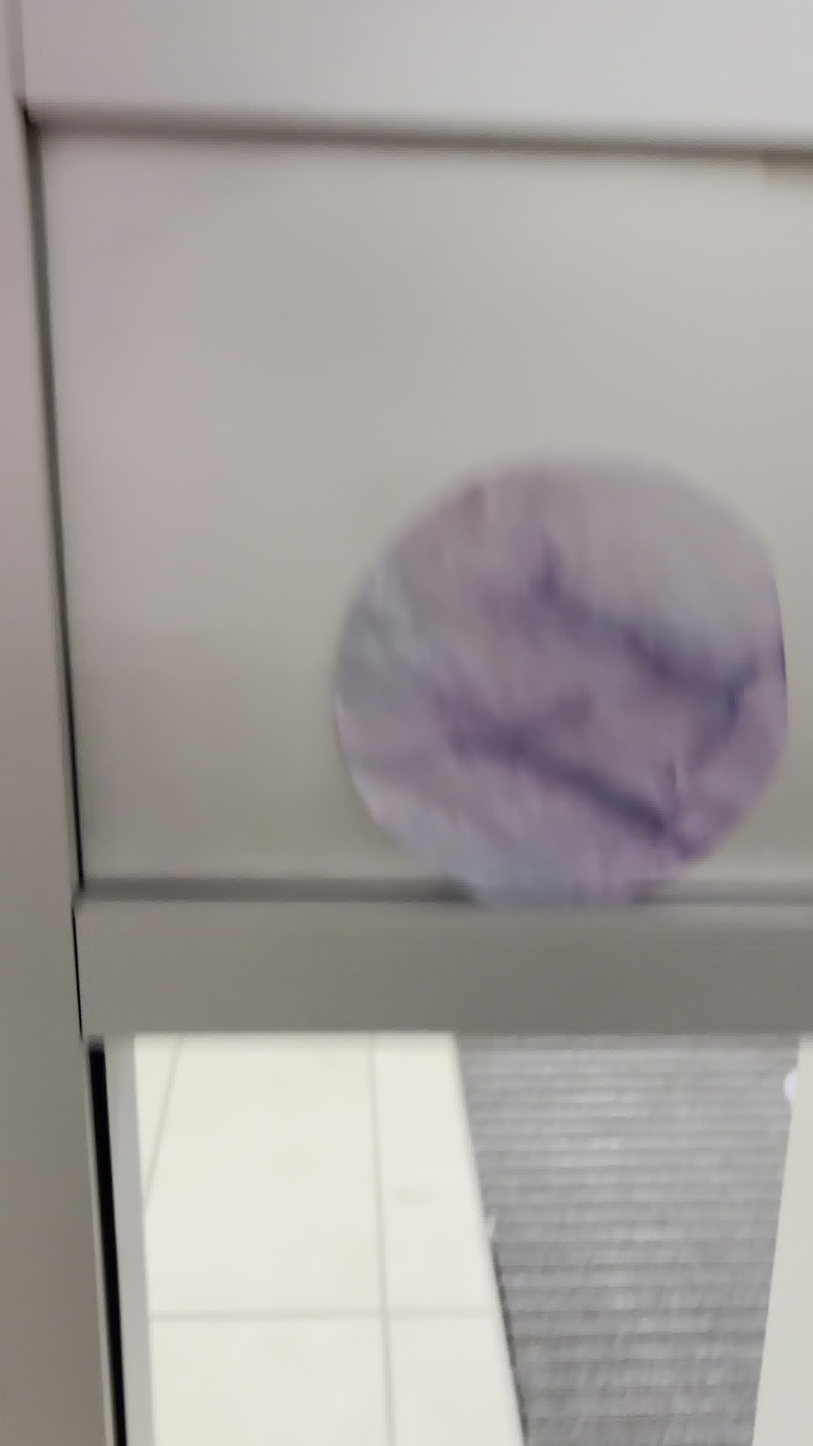Target: (313, 449, 799, 924)
